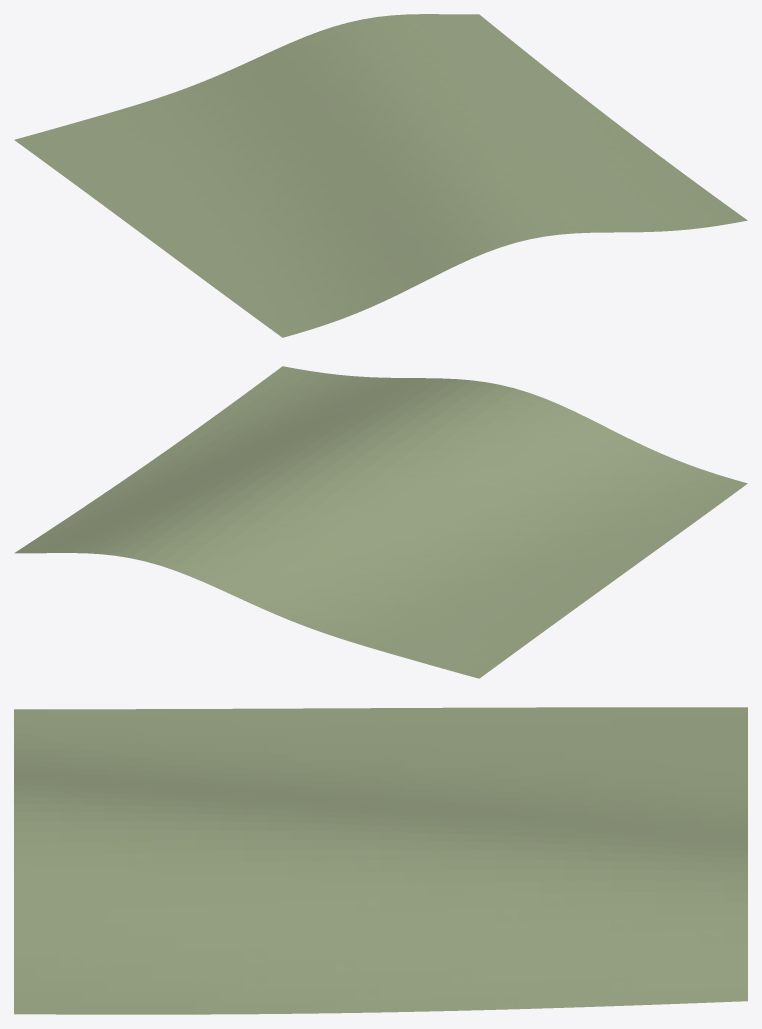
File: desert-7-5.glb
3 views of the same model, one above another, from view 1: azimuth 30°, elevation 25°; view 2: azimuth 150°, elevation 25°; view 3: azimuth 270°, elevation 25° (orthographic). The views are drawn at different scales.
Visible parts, largest first — view 1: desert-7-5; view 2: desert-7-5; view 3: desert-7-5.
Part boxes in pixels (x1=…): desert-7-5: x1=14, y1=14, x2=747, y2=337; desert-7-5: x1=14, y1=366, x2=747, y2=678; desert-7-5: x1=14, y1=707, x2=747, y2=1014.
Size of the model in its own units: 512 by 41.36 by 512.
